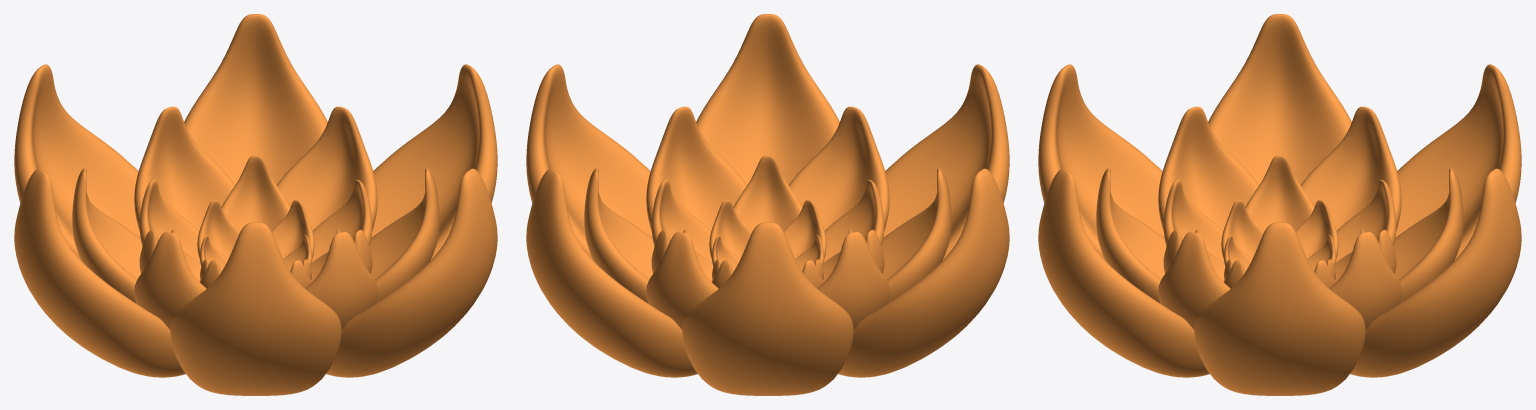
File: lotus.glb
3 views of the same model, side by side, from view 1: azimuth 30°, elevation 25°; view 2: azimuth 150°, elevation 25°; view 3: azimuth 270°, elevation 25° (orthographic).
Parts seen in each view (by area): view 1: petal; view 2: petal; view 3: petal.
Boxes of the visible parts, x1,y1,x2,y2 form: petal: (14, 14, 497, 395); petal: (526, 14, 1009, 395); petal: (1038, 14, 1521, 395).
Bounding box in the file's own units: 6.9 × 3.19 × 6.29.
